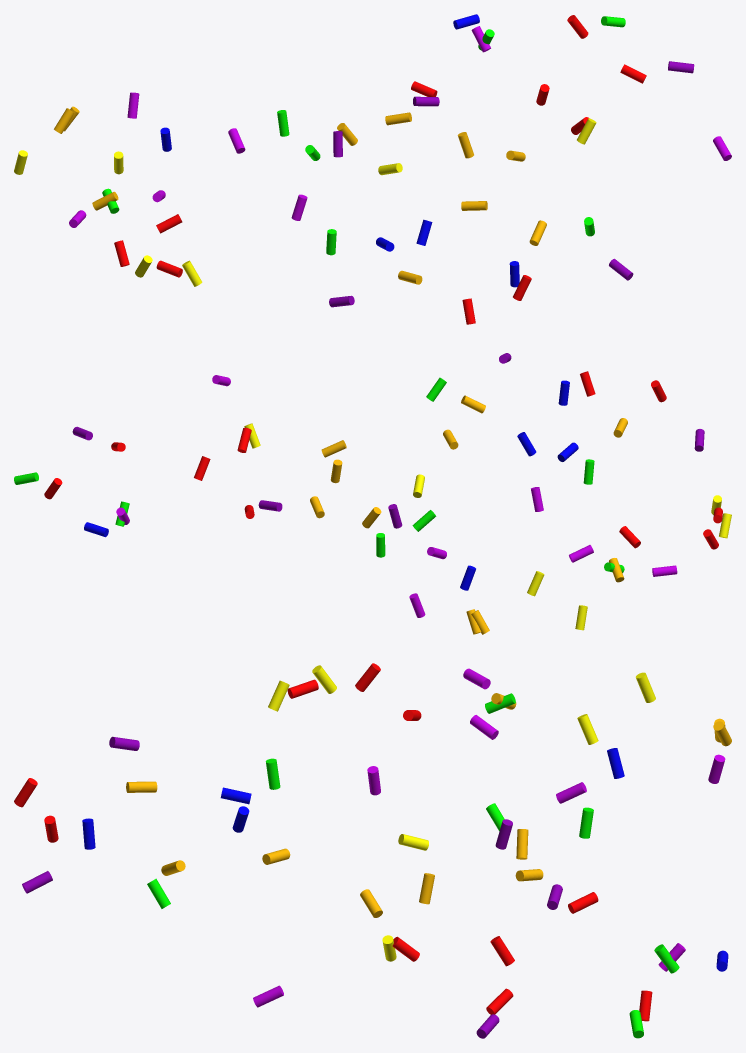
The model's file is rainbow_heart1.glb.
The picture shows the model from 3 angles, top to bottom: view 1: azimuth 30°, elevation 25°; view 2: azimuth 150°, elevation 25°; view 3: azimuth 270°, elevation 25°; orthographic projection. The views are drawn at different scales.
Size of the model in its own units: 2.33 by 0.0854 by 1.96.
